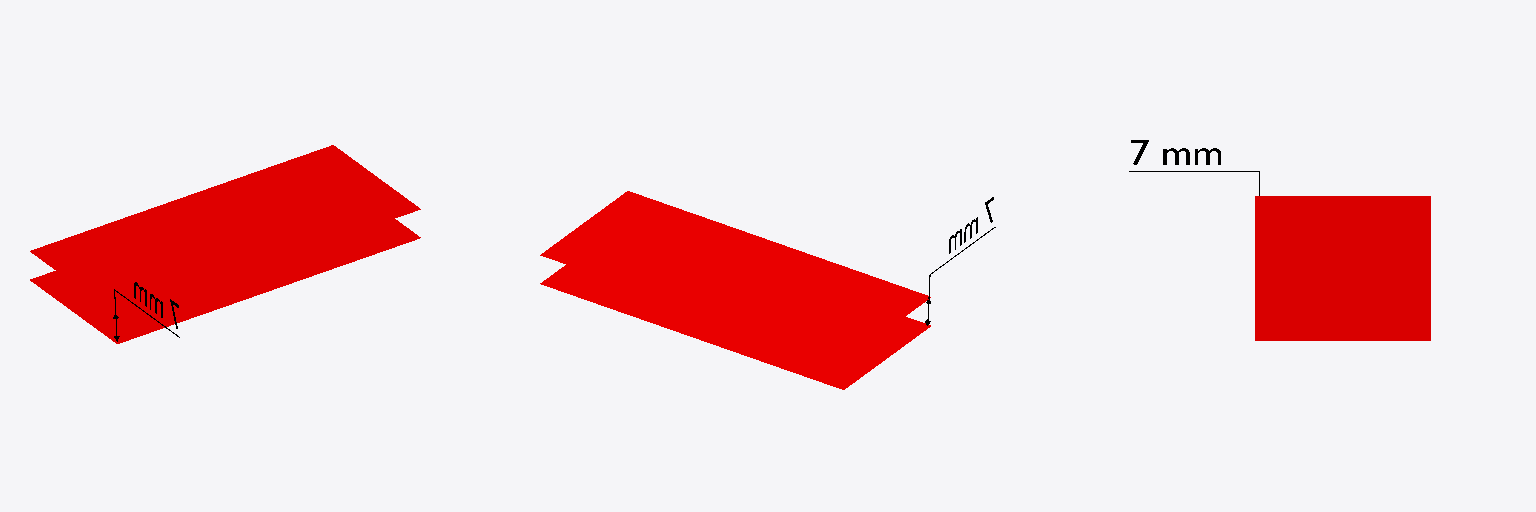
3 renders of one model, left to right at view 1: azimuth 30°, elevation 25°; view 2: azimuth 150°, elevation 25°; view 3: azimuth 270°, elevation 25°, orthographic.
Visible parts, largest first — view 1: ZT; view 2: ZT; view 3: ZT, Text.
Boxes of the visible parts, <box> form: ZT: <box>30,145,420,343</box>; ZT: <box>540,191,930,389</box>; ZT: <box>1255,196,1430,340</box>; Text: <box>1131,140,1220,164</box>.
Size of the model in its own units: 6.02 by 1.59 by 5.15.